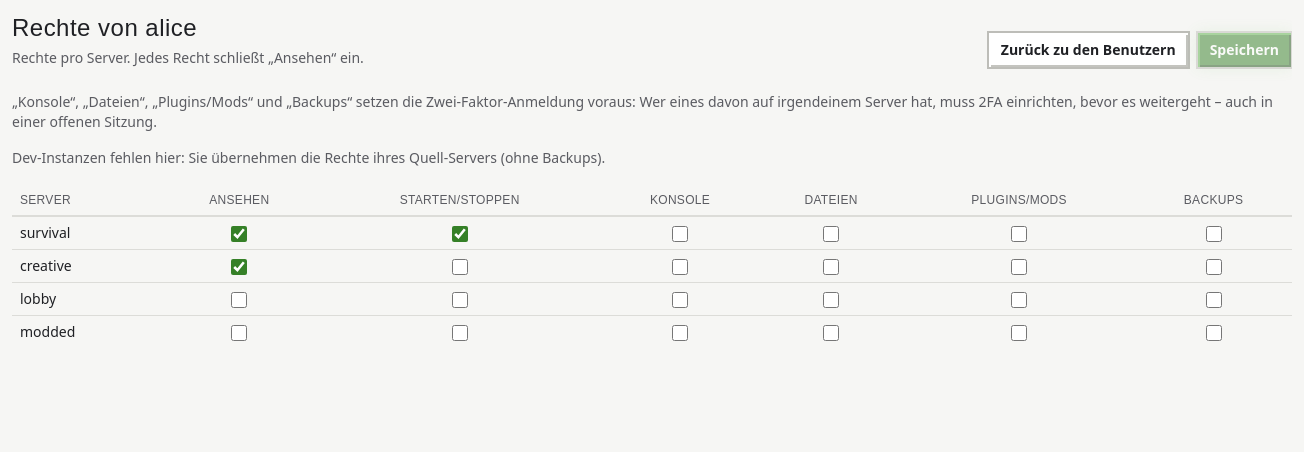
Test: UserPermissionsPage › warns before granting plugin access
Expected: the heading "Rechte von alice" is shown, x1=12 y1=14 x2=197 y2=41
Expected: the text "erlaubt Code-Ausführung" is not shown
Click the checkbox named "survival: Plugins/Mods" at (1019, 234), box x1=1011 y1=226 x2=1027 y2=242
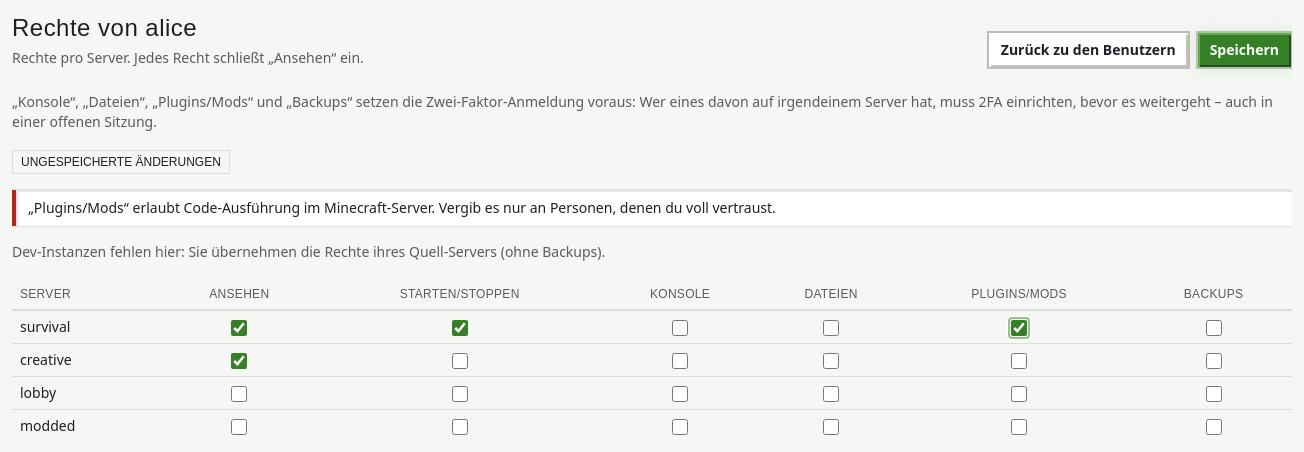
Now the text "„Plugins/Mods“ erlaubt Code-Ausführung im Minecraft-Server" is shown, box x1=28 y1=198 x2=776 y2=217
